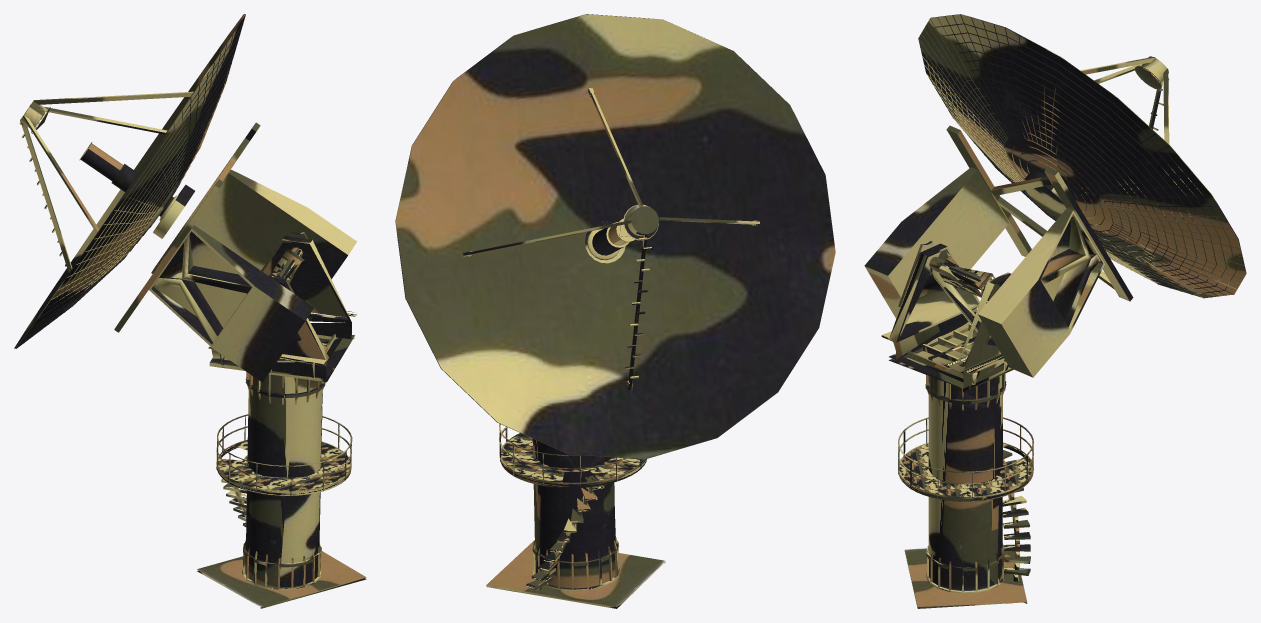
File: radar_static.gltf
3 views of the same model, side by side, from view 1: azimuth 30°, elevation 25°; view 2: azimuth 150°, elevation 25°; view 3: azimuth 270°, elevation 25° (orthographic). The views are drawn at different scales.
Visible parts, largest first — view 1: AM84_027_12, AM84_027_11, AM84_027_13, AM84_027_07, AM84_027_08, AM84_027_10, AM84_027_02, AM84_027_00, AM84_027_05, AM84_027_01, AM84_027_06; view 2: AM84_027_11, AM84_027_13, AM84_027_00, AM84_027_02, AM84_027_01, AM84_027_05; view 3: AM84_027_11, AM84_027_12, AM84_027_13, AM84_027_07, AM84_027_08, AM84_027_10, AM84_027_02, AM84_027_00, AM84_027_06, AM84_027_05, AM84_027_01.
Part boxes in pixels (bbox=[...]): AM84_027_12: bbox=[114, 122, 357, 382]; AM84_027_11: bbox=[14, 14, 245, 348]; AM84_027_13: bbox=[197, 372, 366, 608]; AM84_027_07: bbox=[208, 236, 356, 382]; AM84_027_08: bbox=[24, 24, 243, 342]; AM84_027_10: bbox=[16, 14, 245, 348]; AM84_027_02: bbox=[218, 440, 350, 490]; AM84_027_00: bbox=[221, 478, 321, 588]; AM84_027_05: bbox=[216, 414, 352, 496]; AM84_027_01: bbox=[217, 440, 351, 495]; AM84_027_06: bbox=[269, 247, 304, 283]; AM84_027_11: bbox=[395, 14, 835, 459]; AM84_027_13: bbox=[486, 438, 665, 608]; AM84_027_00: bbox=[526, 475, 618, 591]; AM84_027_02: bbox=[501, 433, 643, 482]; AM84_027_01: bbox=[500, 433, 646, 487]; AM84_027_05: bbox=[499, 423, 641, 486]; AM84_027_11: bbox=[918, 14, 1246, 298]; AM84_027_12: bbox=[864, 125, 1133, 377]; AM84_027_13: bbox=[904, 373, 1027, 608]; AM84_027_07: bbox=[881, 243, 1013, 391]; AM84_027_08: bbox=[923, 23, 1236, 294]; AM84_027_10: bbox=[918, 14, 1245, 298]; AM84_027_02: bbox=[899, 443, 1032, 496]; AM84_027_00: bbox=[926, 450, 1030, 591]; AM84_027_06: bbox=[929, 256, 994, 297]; AM84_027_05: bbox=[898, 417, 1033, 500]; AM84_027_01: bbox=[898, 442, 1033, 501].
Bounding box in the file's own units: 1327 × 2059 × 1328.
1 material, 1 textured.
